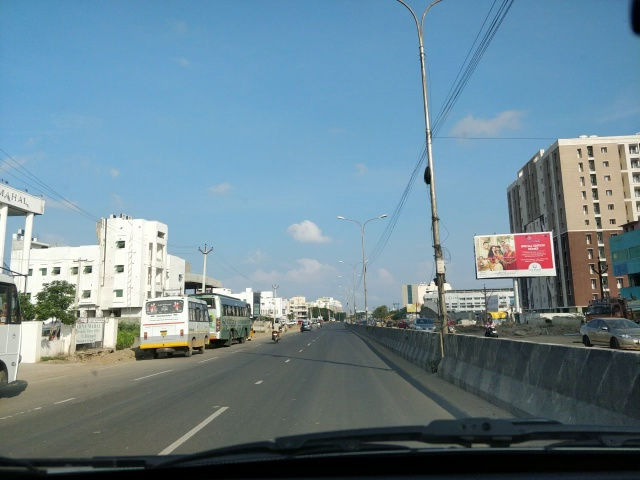bus: (139, 299, 212, 357), (184, 290, 251, 347), (1, 271, 24, 396)
car: (579, 317, 639, 351), (405, 318, 438, 343), (299, 318, 313, 335)
motorbike: (482, 318, 499, 347), (270, 318, 282, 345), (317, 317, 323, 330)
